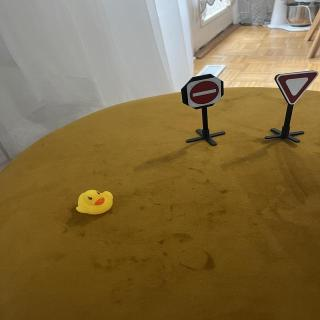duck_regular: (75, 189, 116, 218)
sign_noentry: (185, 77, 226, 110)
sign_yield: (275, 70, 320, 107)
